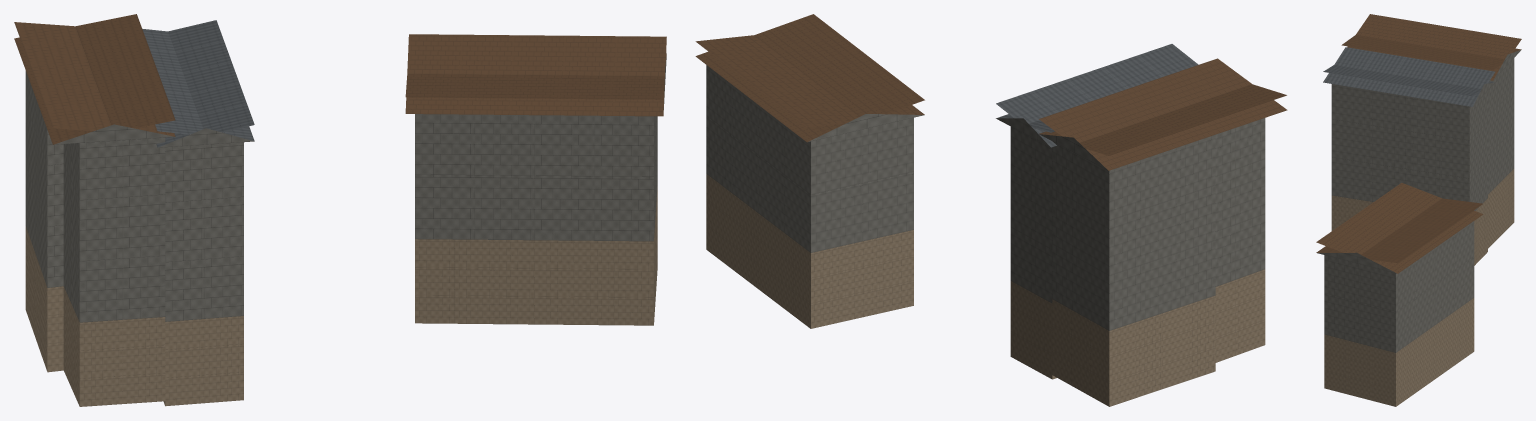
File: bld_c43_32_268.gltf
The picture shows the model from 3 angles, left to right: view 1: azimuth 30°, elevation 25°; view 2: azimuth 150°, elevation 25°; view 3: azimuth 270°, elevation 25°; orthographic projection. The views are drawn at different scales.
Visible parts, largest first — view 1: bld_c43_32_268; view 2: bld_c43_32_268; view 3: bld_c43_32_268.
Boxes of the visible parts, bbox=[...] form: bld_c43_32_268: bbox=[14, 14, 666, 406]; bld_c43_32_268: bbox=[695, 14, 1287, 406]; bld_c43_32_268: bbox=[1316, 14, 1521, 406].
Size of the model in its own units: 40.25 by 18.7 by 17.65.
5 materials, 5 textured.
